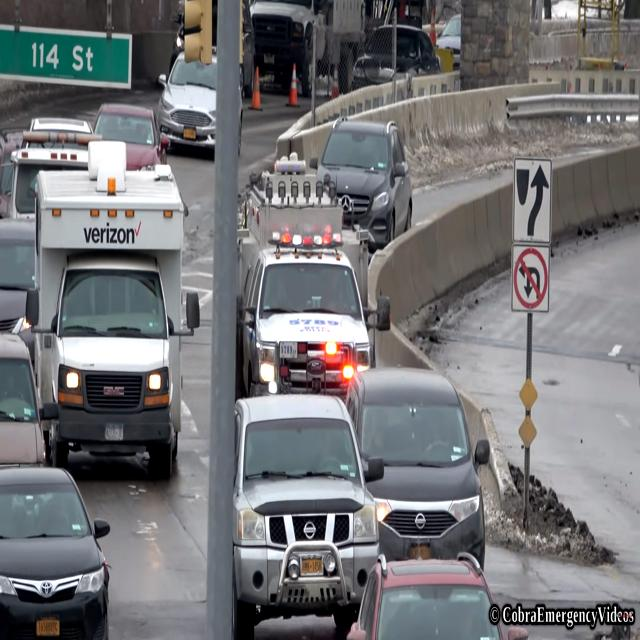emergency-vehicles: (18, 140, 226, 497), (225, 165, 382, 410)
